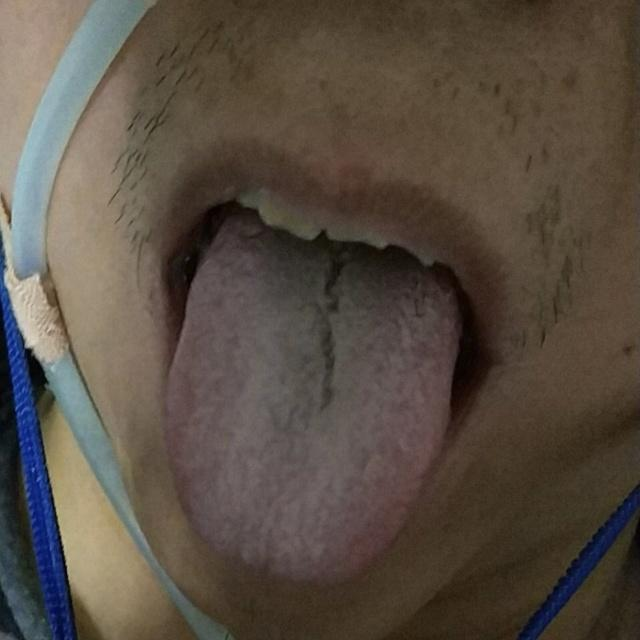baitaishe: (166, 208, 464, 584)
liewenshe: (315, 253, 350, 415)
